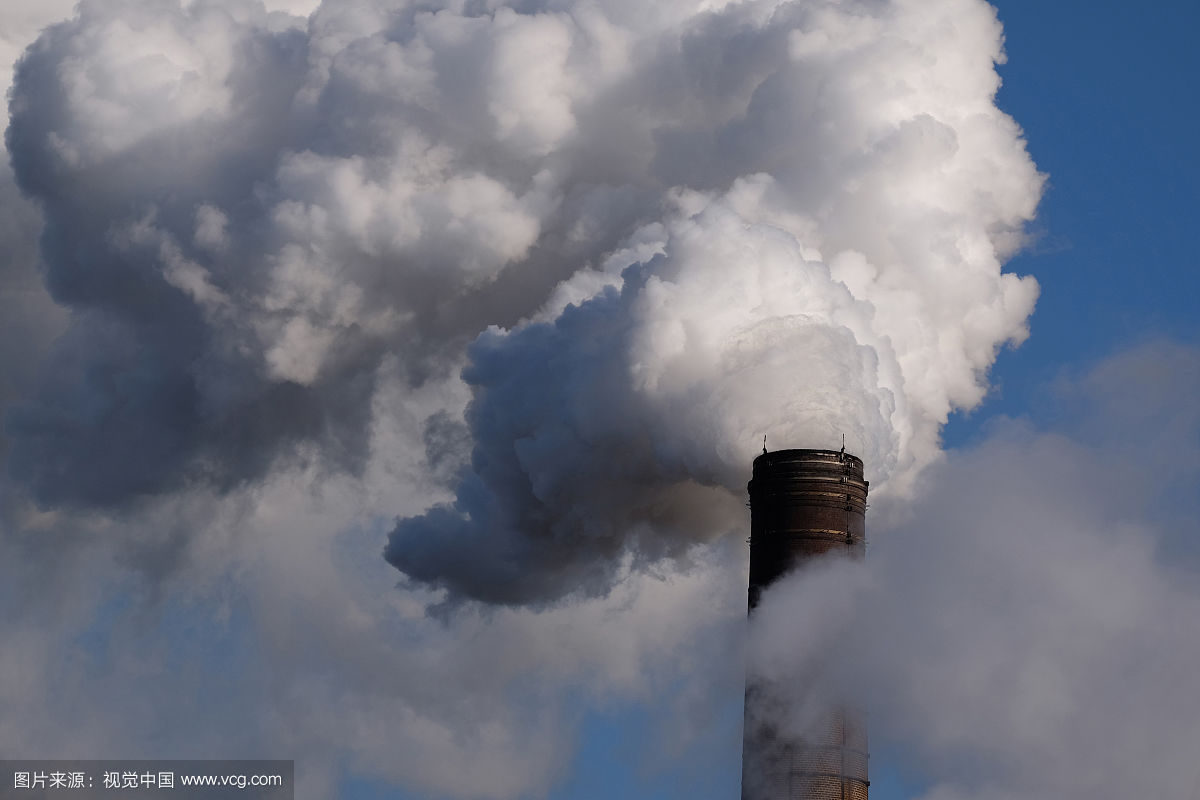dust: (500, 156, 1030, 548)
